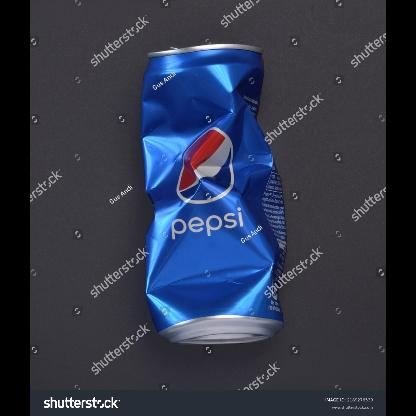Dent_Can: (146, 192, 280, 338), (145, 73, 275, 198), (160, 166, 285, 274), (163, 63, 249, 118), (236, 253, 279, 323), (145, 74, 190, 119)
Tin_Can: (128, 42, 296, 352)
